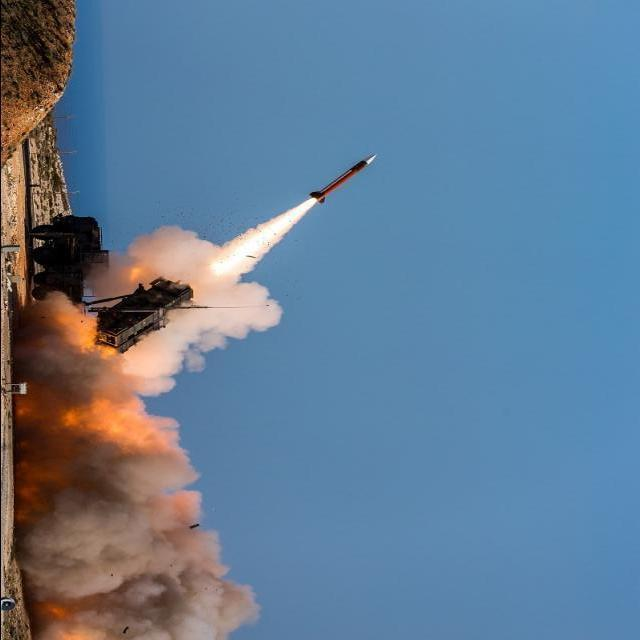missile: (309, 148, 379, 204)
